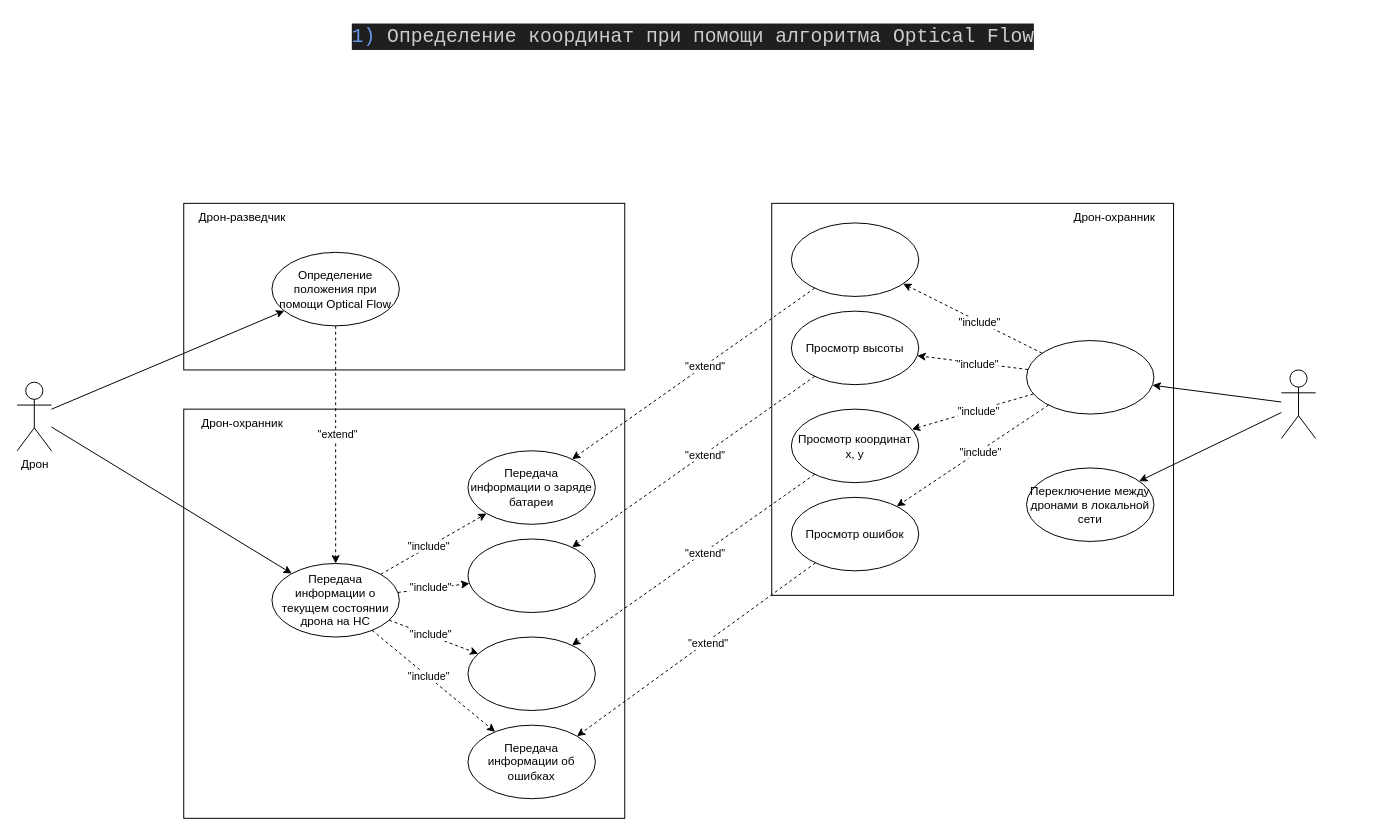
Some shapes in this 1394 by 835 pixel diagram are drawn without their labels. Here are the shapes that lost their labels. From the top down, the box of each, then its label:
(790, 222, 919, 296): Просмотр заряда батареи
(1026, 340, 1154, 414): Просмотр текущего состояния дрона
(1280, 369, 1316, 439): Оператор наземной станции
(467, 538, 595, 612): Передача информации о высоте
(467, 636, 595, 710): Передача координат x, y
